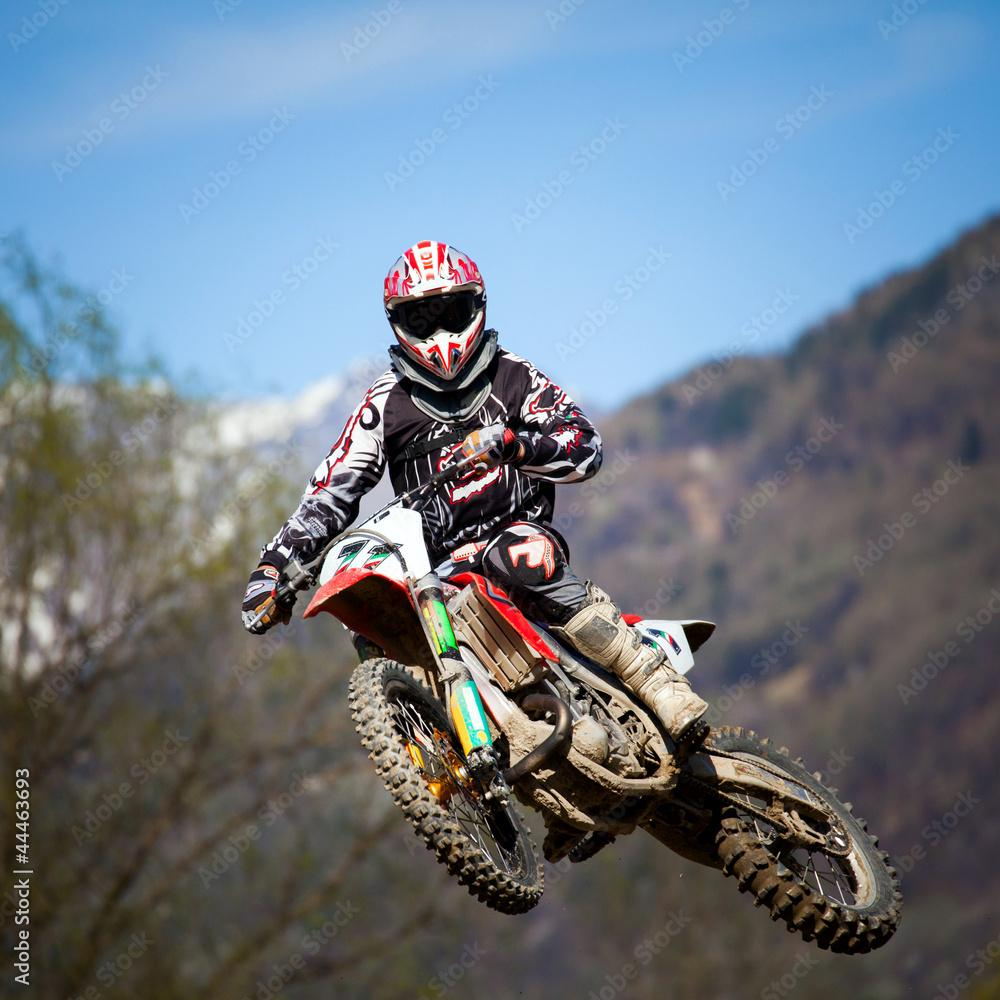helmet: (383, 239, 487, 382)
